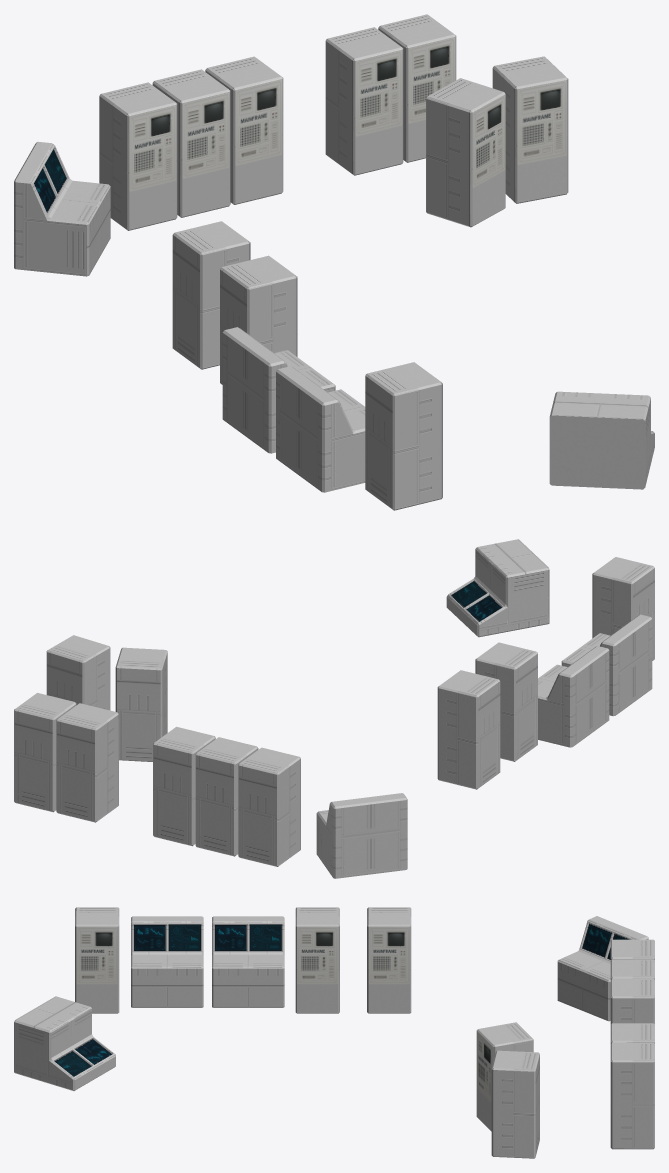
File: compus.obj
3 renders of one model, top to bottom at view 1: azimuth 30°, elevation 25°; view 2: azimuth 150°, elevation 25°; view 3: azimuth 270°, elevation 25°, orthographic. The views are drawn at different scales.
Parts seen in each view (by area): view 1: Main_frame.008, Main_frame.006, Main_frame.010, Main_frame.003, Terminal.001, Terminal.004, Main_frame.002, Terminal.002, Main_frame.004, Main_frame.005, Main_frame.012, Terminal.003 (+2 smaller); view 2: Terminal.004, Main_frame.012, Terminal.001, Main_frame.003, Main_frame.006, Terminal.003, Main_frame.008, Main_frame.004, Main_frame.007, Main_frame.005, Main_frame.009, Terminal.002 (+2 smaller); view 3: Terminal.004, Terminal.003, Terminal.002, Main_frame.002, Main_frame.007, Main_frame.009, Main_frame.012, Main_frame.010, Terminal.001, Main_frame.008, Main_frame.005, Main_frame.003 (+2 smaller).
Boxes of the visible parts, box(x1,y1,x2,y2) form: Main_frame.008: box(426, 78, 505, 227); Main_frame.006: box(325, 27, 403, 175); Main_frame.010: box(365, 362, 442, 510); Main_frame.003: box(99, 82, 177, 230); Terminal.001: box(14, 141, 110, 276); Terminal.004: box(549, 391, 654, 489); Main_frame.002: box(492, 56, 568, 203); Terminal.002: box(276, 366, 365, 492); Main_frame.004: box(152, 69, 230, 217); Main_frame.005: box(205, 56, 283, 204); Main_frame.012: box(172, 221, 250, 369); Terminal.003: box(222, 327, 335, 453); Terminal.004: box(446, 539, 549, 637); Main_frame.012: box(437, 670, 500, 789); Terminal.001: box(316, 793, 407, 878); Main_frame.003: box(238, 747, 300, 866); Main_frame.006: box(56, 703, 118, 822); Terminal.003: box(538, 646, 609, 747); Main_frame.008: box(115, 647, 167, 761); Main_frame.004: box(195, 737, 258, 856); Main_frame.007: box(14, 693, 76, 812); Main_frame.005: box(153, 726, 215, 846); Main_frame.009: box(475, 642, 537, 761); Terminal.002: box(561, 614, 652, 716); Terminal.004: box(14, 996, 115, 1090); Terminal.003: box(212, 916, 284, 1007); Terminal.002: box(131, 916, 203, 1007); Main_frame.002: box(491, 1050, 539, 1158); Main_frame.007: box(610, 1042, 654, 1149); Main_frame.009: box(295, 907, 339, 1013); Main_frame.012: box(367, 907, 411, 1013); Main_frame.010: box(75, 907, 119, 1013); Terminal.001: box(557, 916, 648, 1021); Main_frame.008: box(476, 1022, 533, 1131); Main_frame.005: box(610, 978, 654, 1023); Main_frame.003: box(610, 939, 654, 959).
Bounding box in the file's own units: 11.76 × 2.84 × 17.58.
